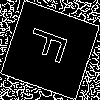F: (25, 24, 78, 68)
